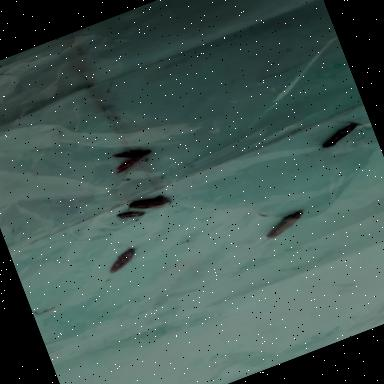pbw: (257, 208, 312, 244), (318, 114, 370, 150), (127, 188, 172, 219), (105, 246, 142, 274), (116, 204, 147, 224)
